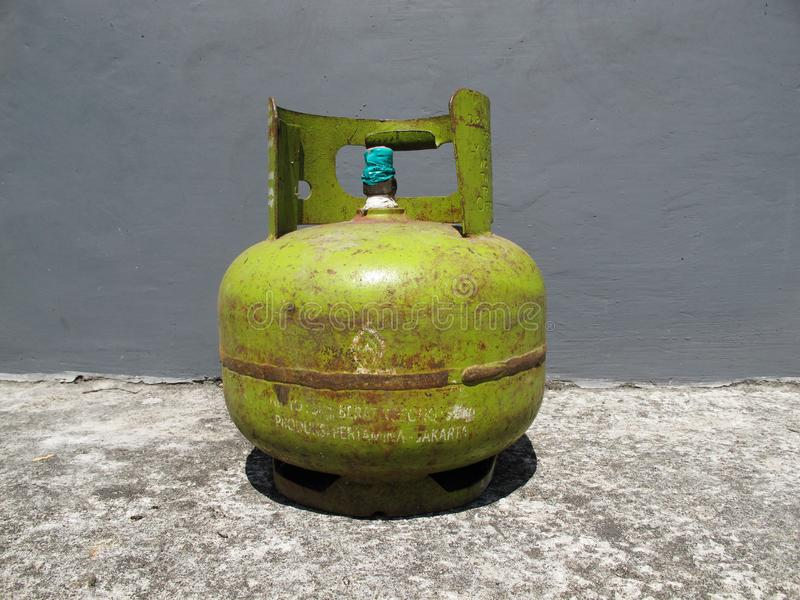gas_ijo: (216, 88, 547, 514)
